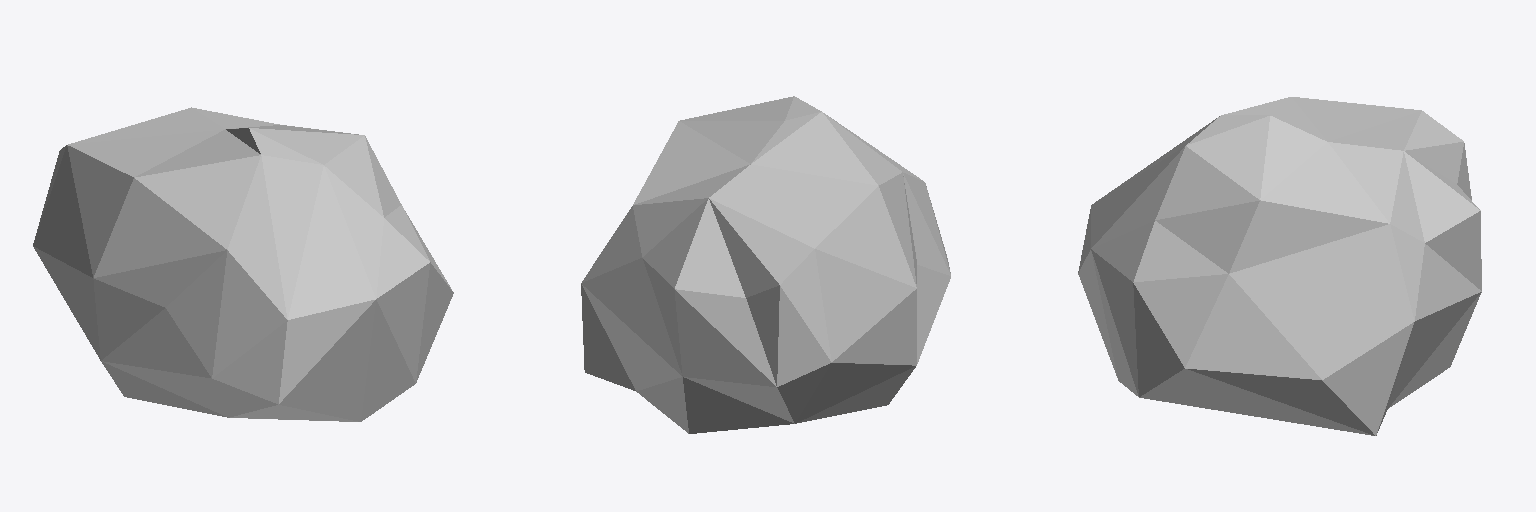
File: rock_010_LOD1.obj
3 renders of one model, left to right at view 1: azimuth 30°, elevation 25°; view 2: azimuth 150°, elevation 25°; view 3: azimuth 270°, elevation 25°, orthographic.
Visible parts, largest first — view 1: rock_010_LOD1; view 2: rock_010_LOD1; view 3: rock_010_LOD1.
Part boxes in pixels (bbox=[...]): rock_010_LOD1: bbox=[33, 107, 453, 421]; rock_010_LOD1: bbox=[581, 96, 950, 433]; rock_010_LOD1: bbox=[1078, 97, 1481, 435].
Size of the model in its own units: 268 by 221 by 300.